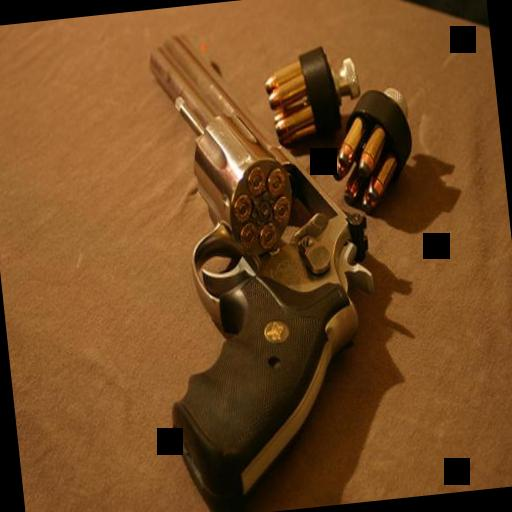Handgun: (126, 12, 396, 508)
